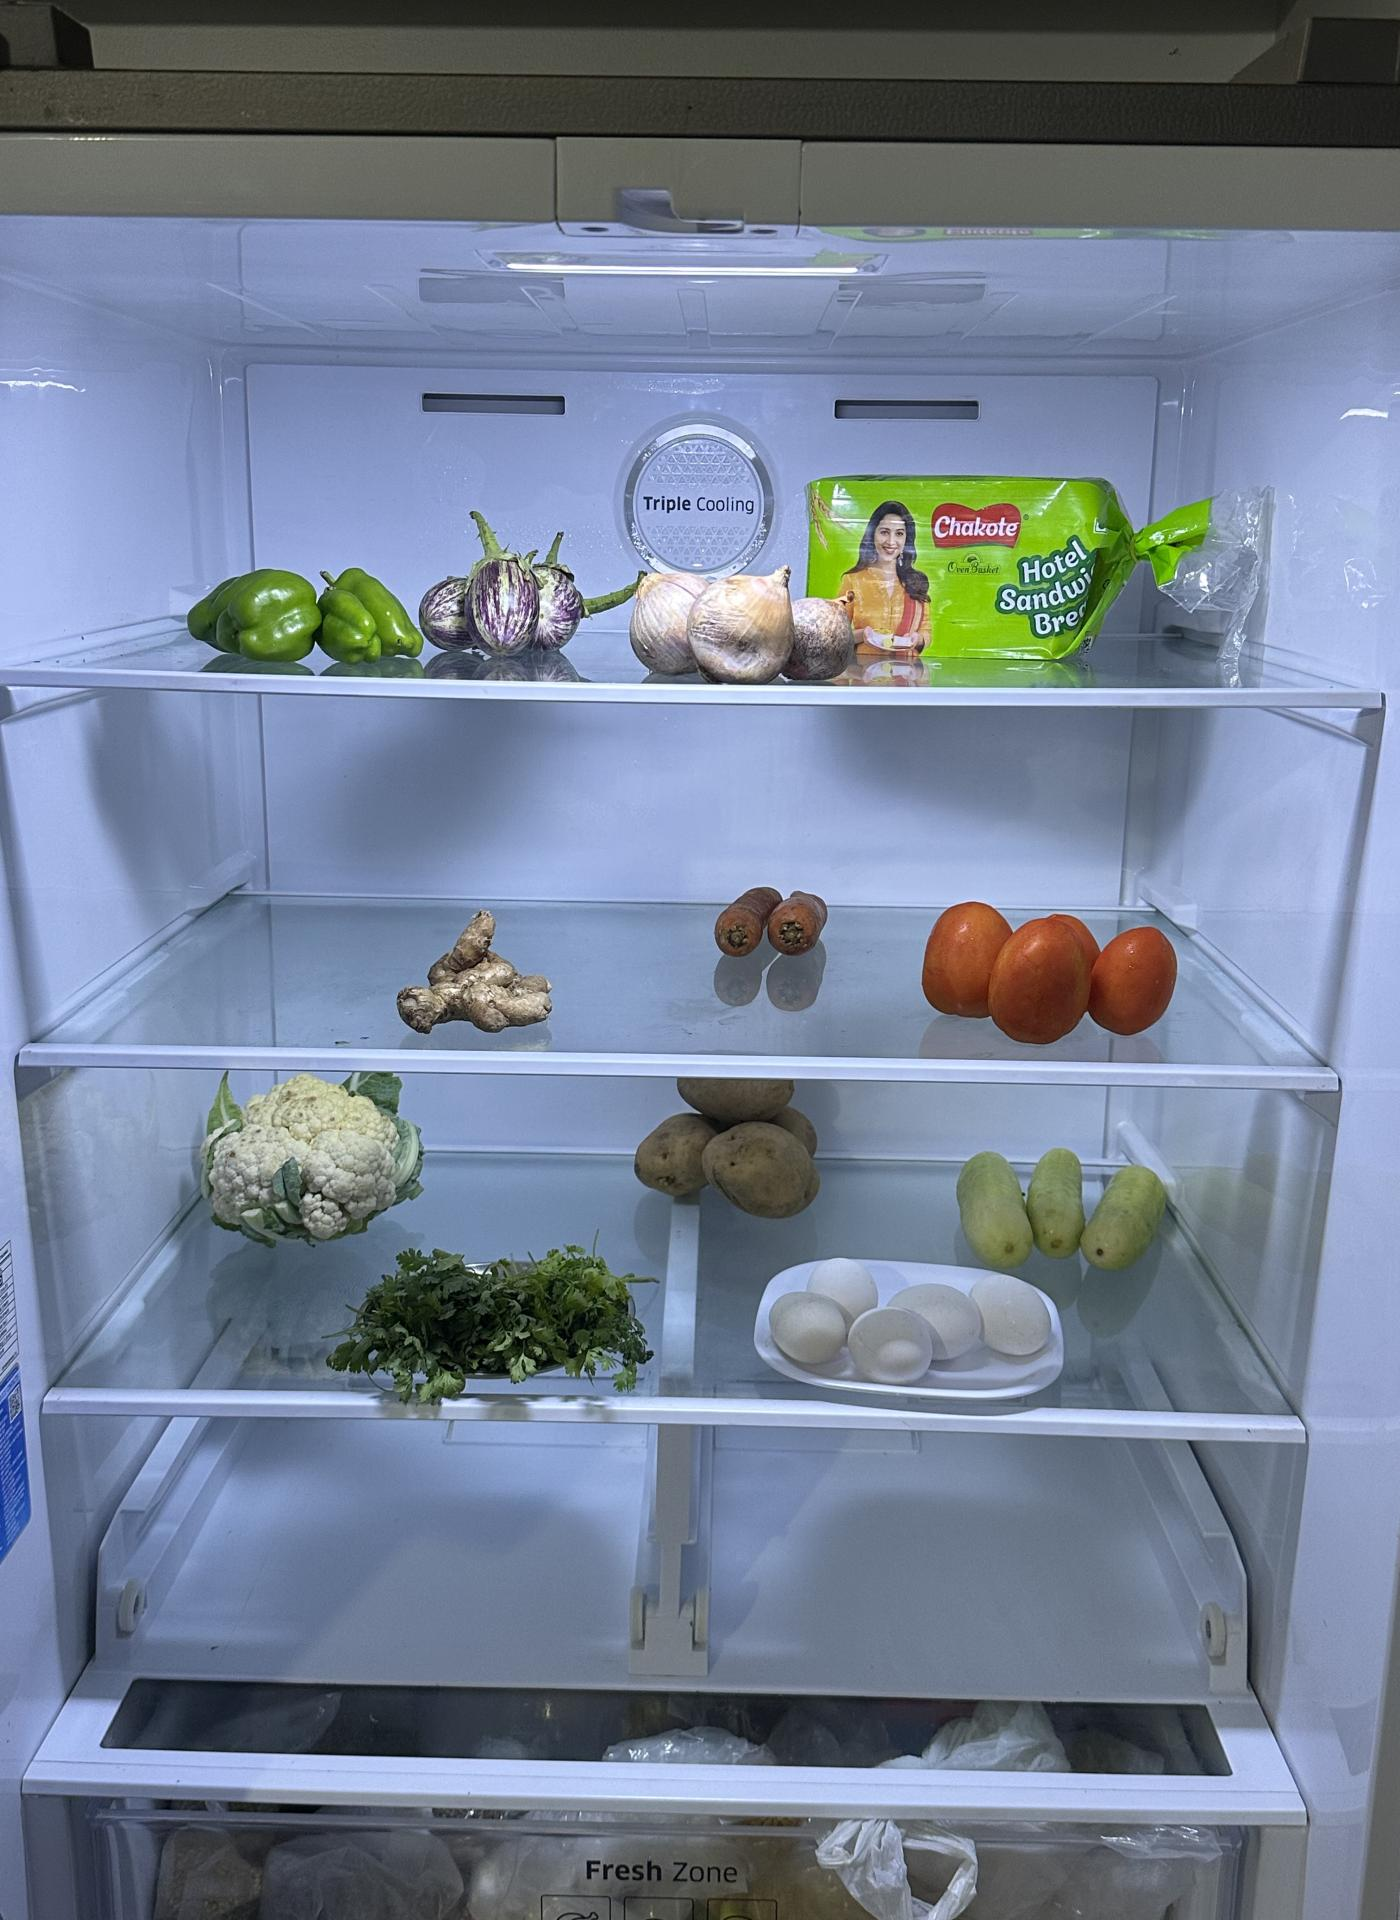bread: (802, 468, 1142, 684)
brinjal: (417, 541, 620, 659)
capsicum: (183, 543, 423, 651)
carrots: (771, 1261, 1054, 1385), (713, 884, 824, 959)
cauliflower: (194, 1075, 428, 1243)
coriander: (356, 1243, 653, 1395)
cucumber: (957, 1133, 1170, 1272)
ginger: (398, 903, 556, 1038)
potato: (635, 1067, 830, 1212)
tomato: (921, 897, 1187, 1051)
